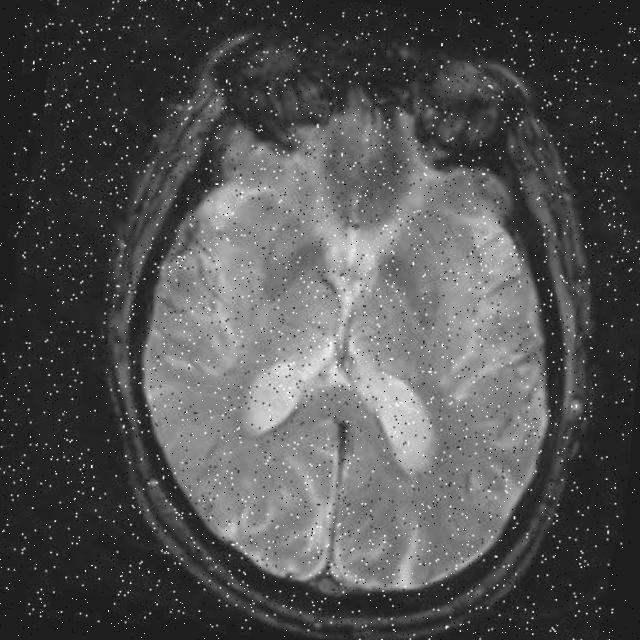EMCI: (316, 130, 428, 240), (364, 253, 481, 347), (245, 214, 326, 302)
